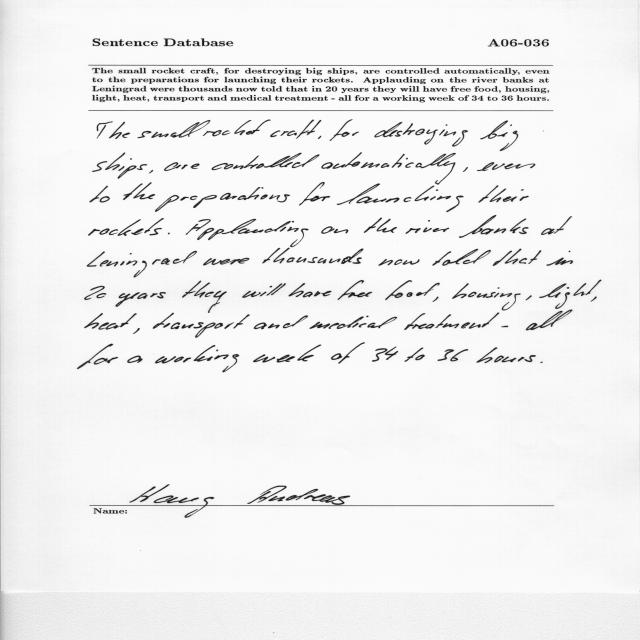word: (321, 153, 456, 185), (337, 184, 464, 212), (186, 219, 309, 247), (155, 187, 290, 212), (87, 251, 197, 277), (153, 313, 250, 338), (374, 122, 468, 147), (155, 345, 239, 372), (452, 284, 521, 311), (212, 153, 320, 170), (540, 280, 602, 309), (263, 248, 364, 264), (405, 313, 500, 330), (459, 215, 528, 238), (182, 281, 227, 313), (93, 153, 147, 179), (88, 218, 164, 236), (138, 120, 211, 138), (310, 315, 398, 329), (253, 345, 321, 363), (480, 120, 518, 151), (203, 120, 270, 137), (385, 280, 440, 300), (78, 344, 119, 369), (432, 249, 491, 266), (526, 310, 573, 331), (271, 120, 322, 139), (477, 347, 536, 363), (478, 185, 529, 203), (85, 313, 137, 330), (493, 249, 541, 266), (115, 292, 166, 307), (331, 343, 365, 364), (299, 183, 330, 206), (254, 316, 308, 329), (338, 280, 372, 300), (242, 283, 286, 298), (330, 120, 359, 141), (406, 220, 449, 234), (289, 283, 332, 297), (97, 121, 130, 139), (541, 216, 572, 235), (123, 182, 155, 200), (477, 162, 536, 171), (364, 217, 397, 233), (547, 251, 573, 266), (372, 347, 398, 362), (204, 258, 250, 266), (438, 349, 468, 361), (90, 186, 110, 203), (164, 162, 200, 171), (404, 347, 425, 362), (85, 286, 106, 300), (379, 259, 420, 266), (321, 226, 349, 234), (128, 356, 143, 363), (133, 328, 140, 334), (433, 297, 439, 302), (526, 296, 532, 301), (591, 297, 597, 302), (463, 167, 468, 172), (149, 170, 153, 173), (318, 136, 321, 139), (502, 326, 509, 327), (540, 362, 543, 363), (168, 233, 170, 234)
